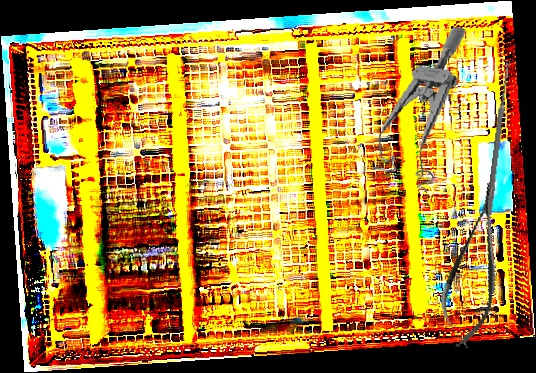Micro Scissor: (431, 178, 519, 353)
Speculum: (369, 18, 467, 195)
Surgical Spoon: (485, 60, 512, 215)
